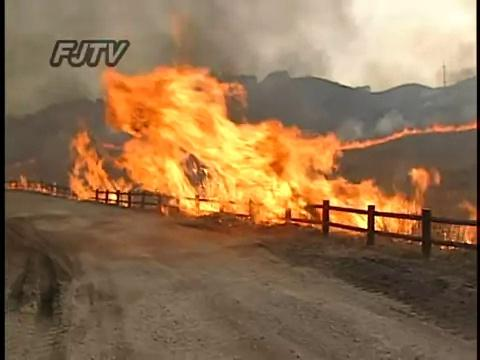fire: (139, 139, 332, 202), (106, 77, 225, 129)
